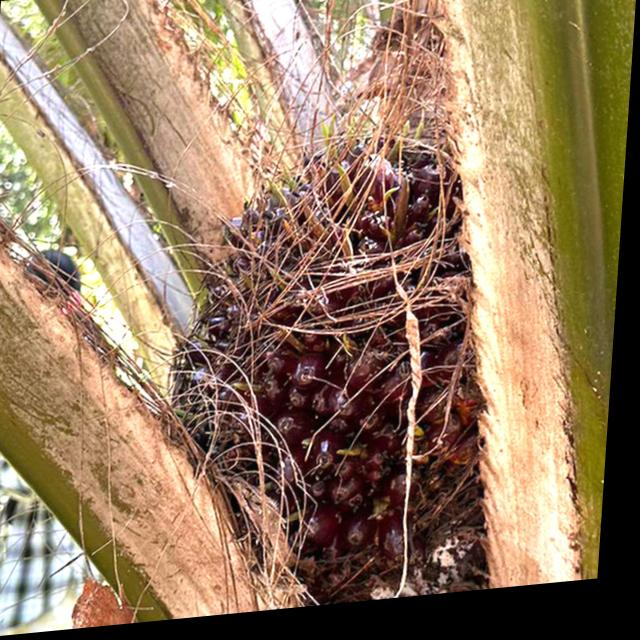almost: (154, 100, 511, 597)
